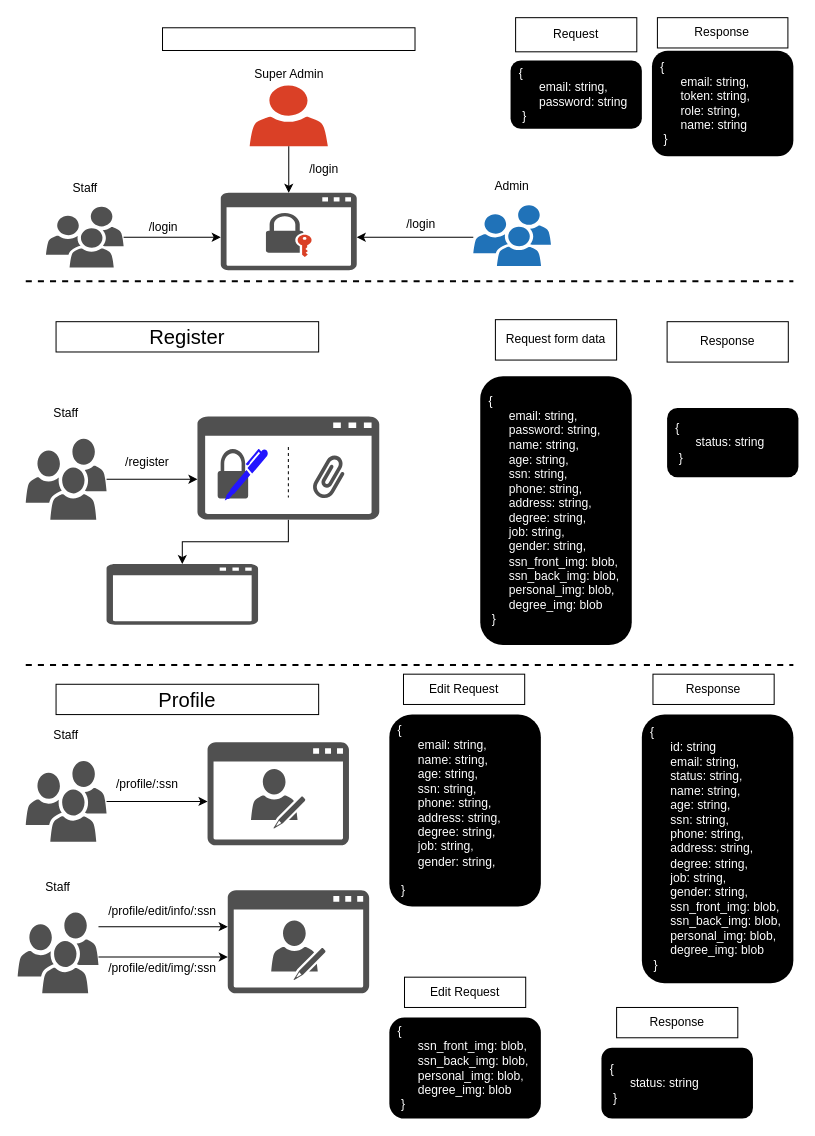
Image size: 815x1136. Some labels were removed from this diagram. Here are the shapes that lost their labels. From the top down, the centre of each, then its label:
At point (288, 38): "Login".
At point (182, 594): "To Login".
